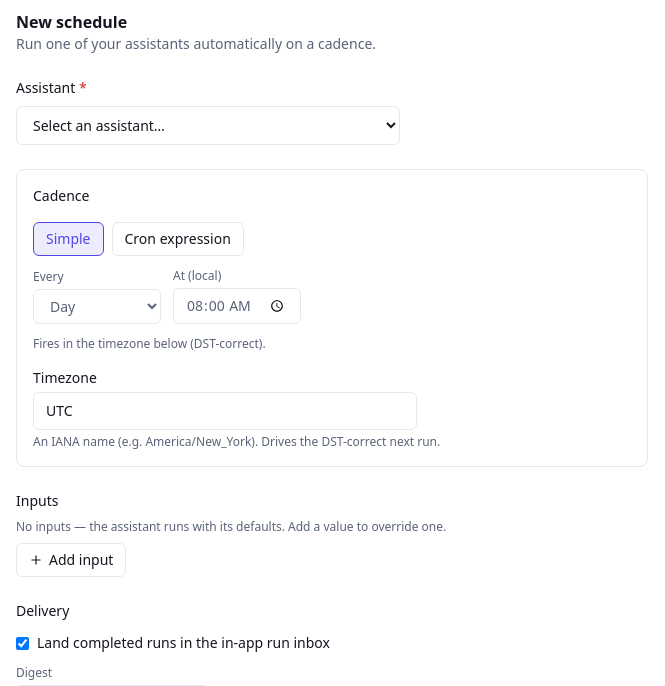
it: ScheduleEditor (create) › validates an unknown timezone with a friendly message (AC-4)
The width and height of the screenshot is (665, 686).
Replace the text in the field with placeholder "America/New_York" with "Mars/Phobos" at x=225, y=411, box [33,392,417,430]
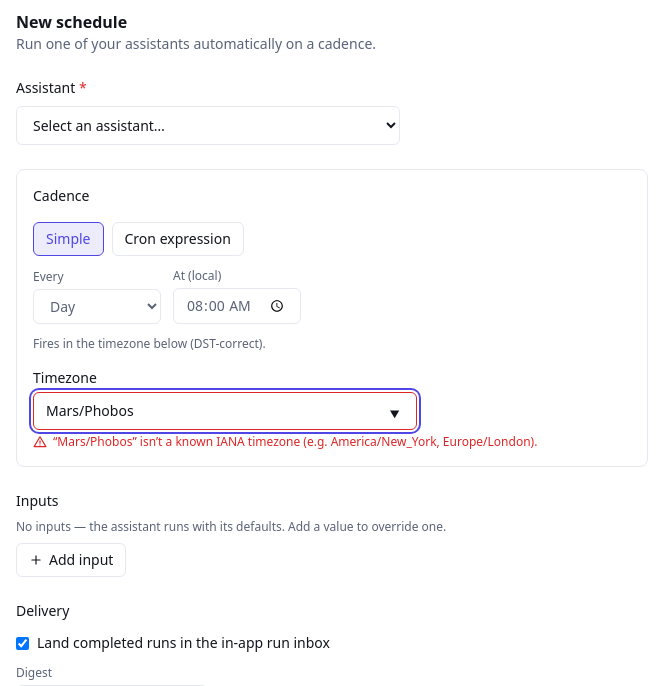
Expected: the text "isn.t a known IANA timezone" is shown, [53,433,537,450]
